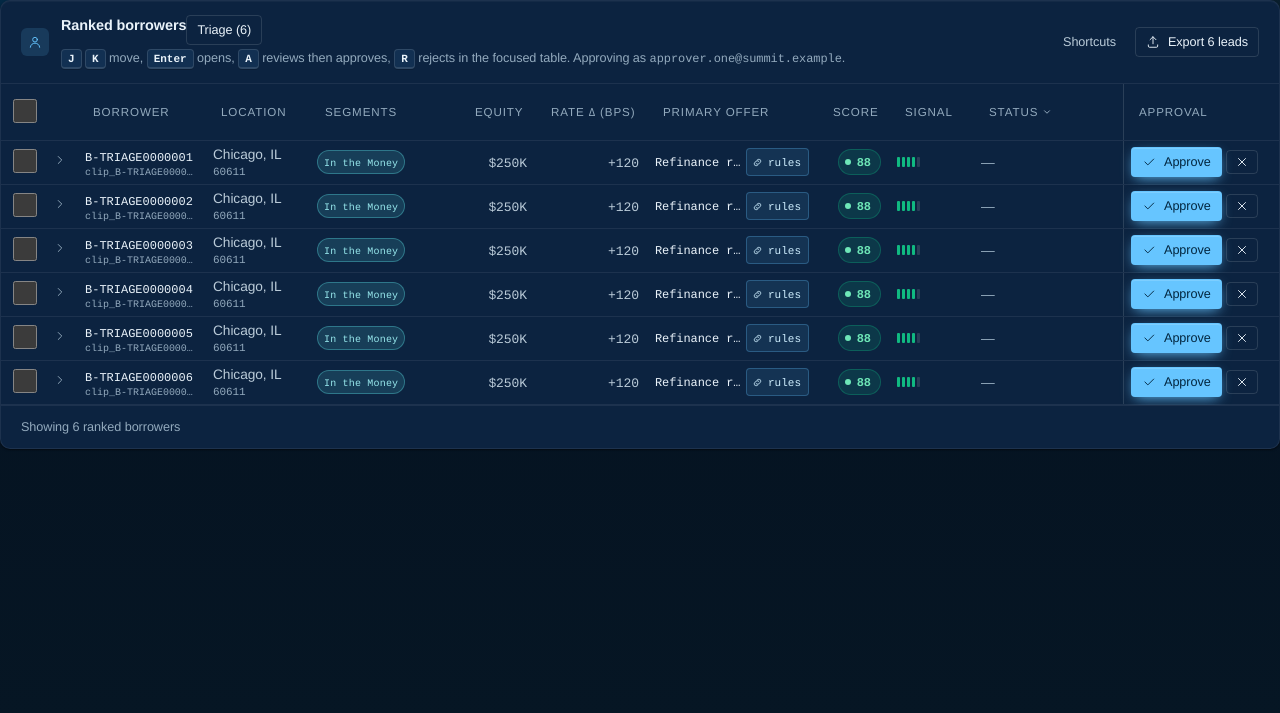
Test: Triage deck › enters with ?mode=triage (a new entry), hides the table, focuses card 1 and drafts nothing
Click the button with test id "lead-triage-enter". click: click(224, 30)
box: [186,15,262,45]
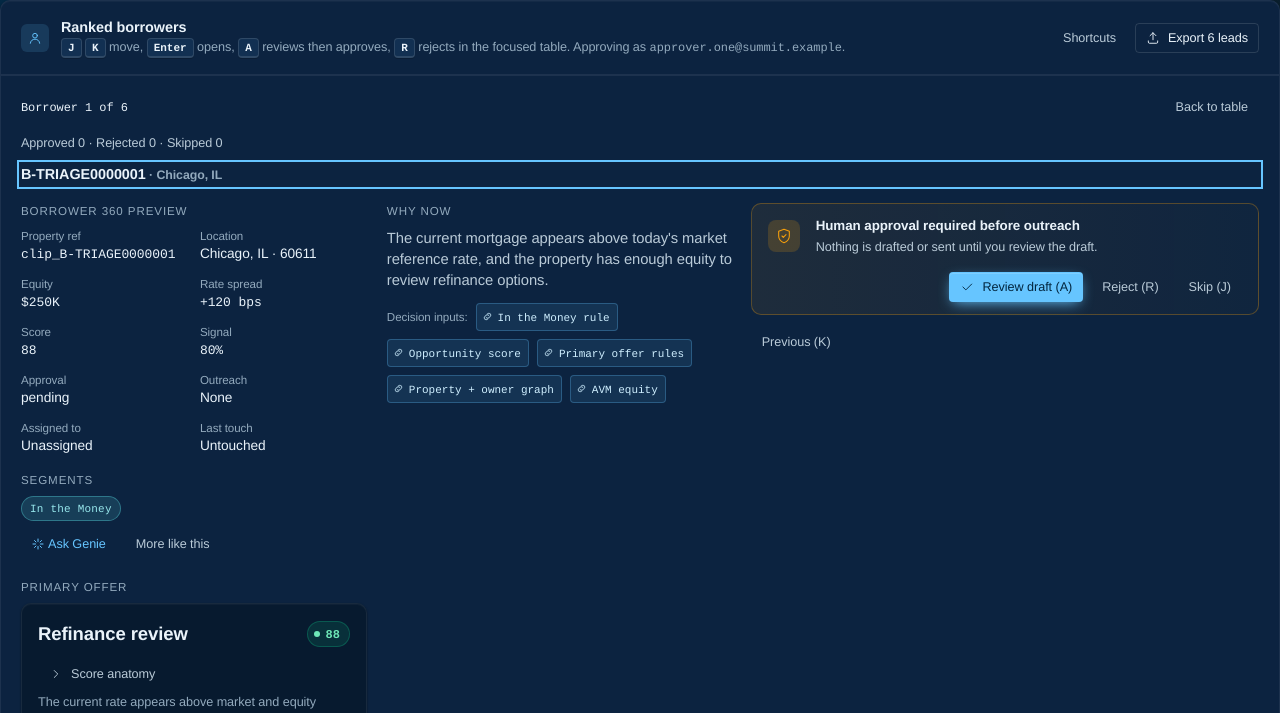
Now the text with test id "triage-position" reads "Borrower 1 of 6", box [21,99,128,115]
Now the button with test id "lead-triage-enter" is gone
Press j in the heading "B-TRIAGE0000001 · Chicago, IL", box [21,165,222,183]
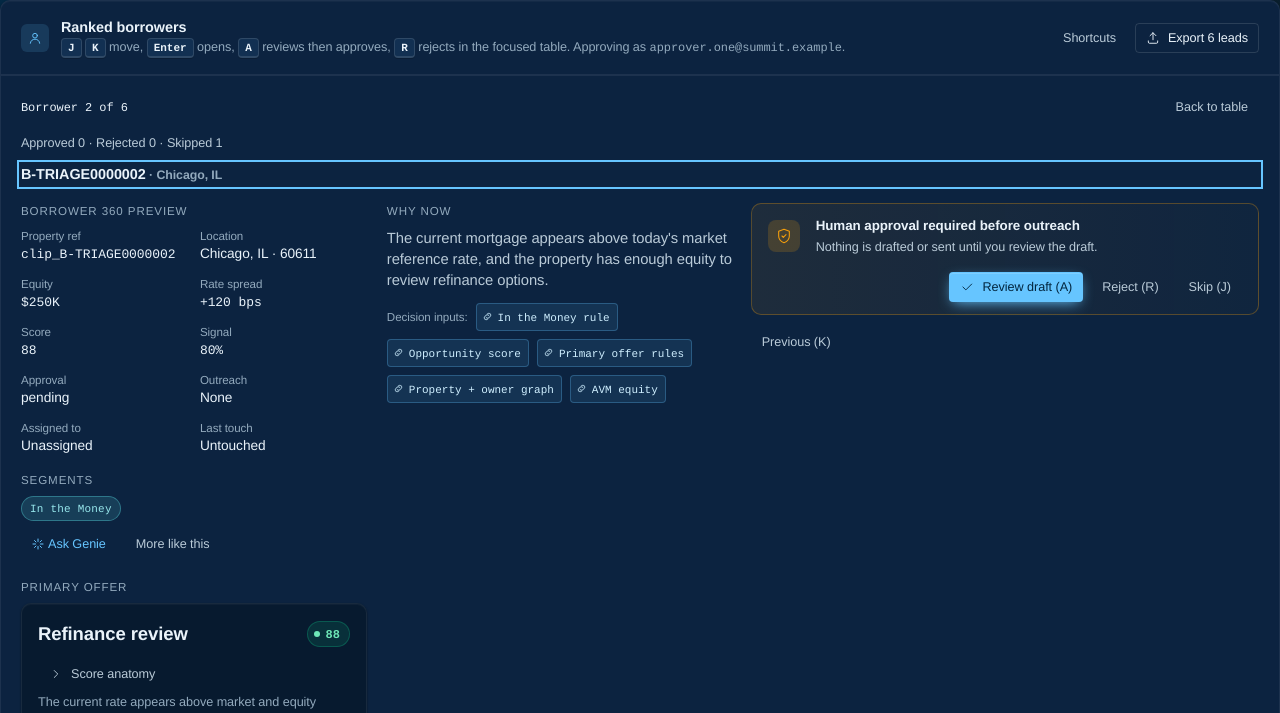
Press ArrowRight in the heading "B-TRIAGE0000002 · Chicago, IL", box [21,165,222,183]
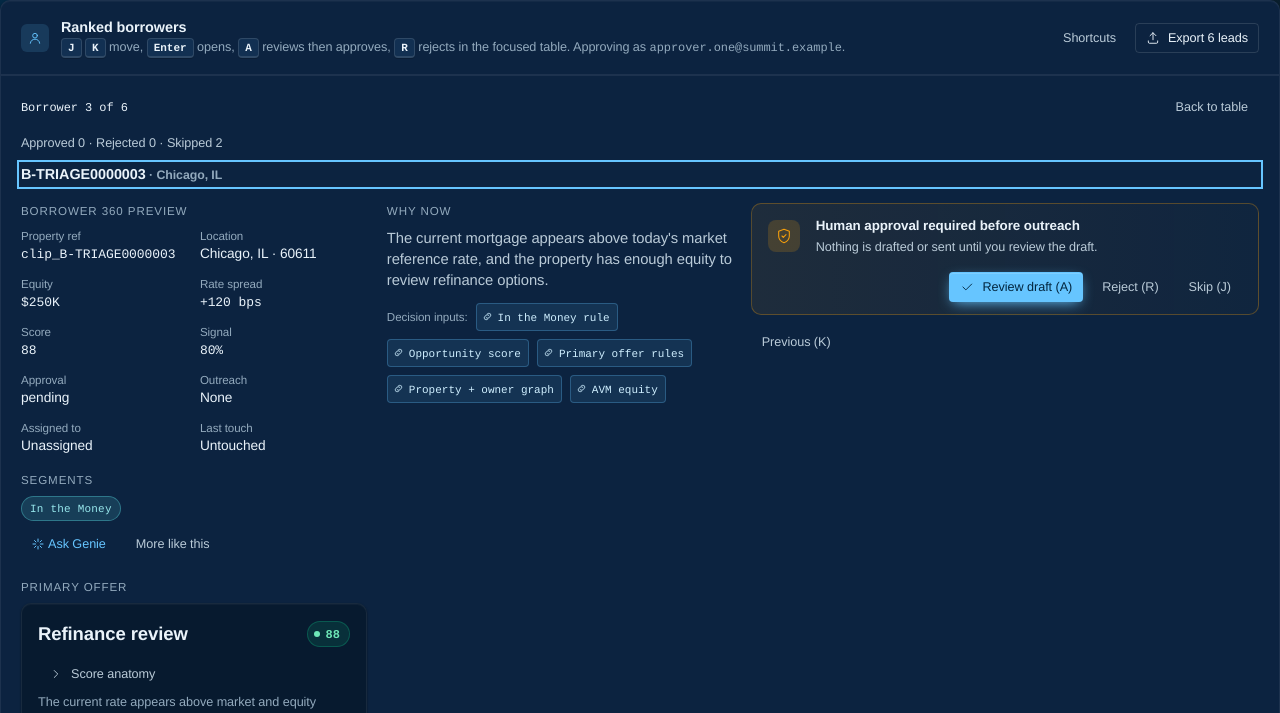
Press j in the heading "B-TRIAGE0000003 · Chicago, IL", box [21,165,222,183]
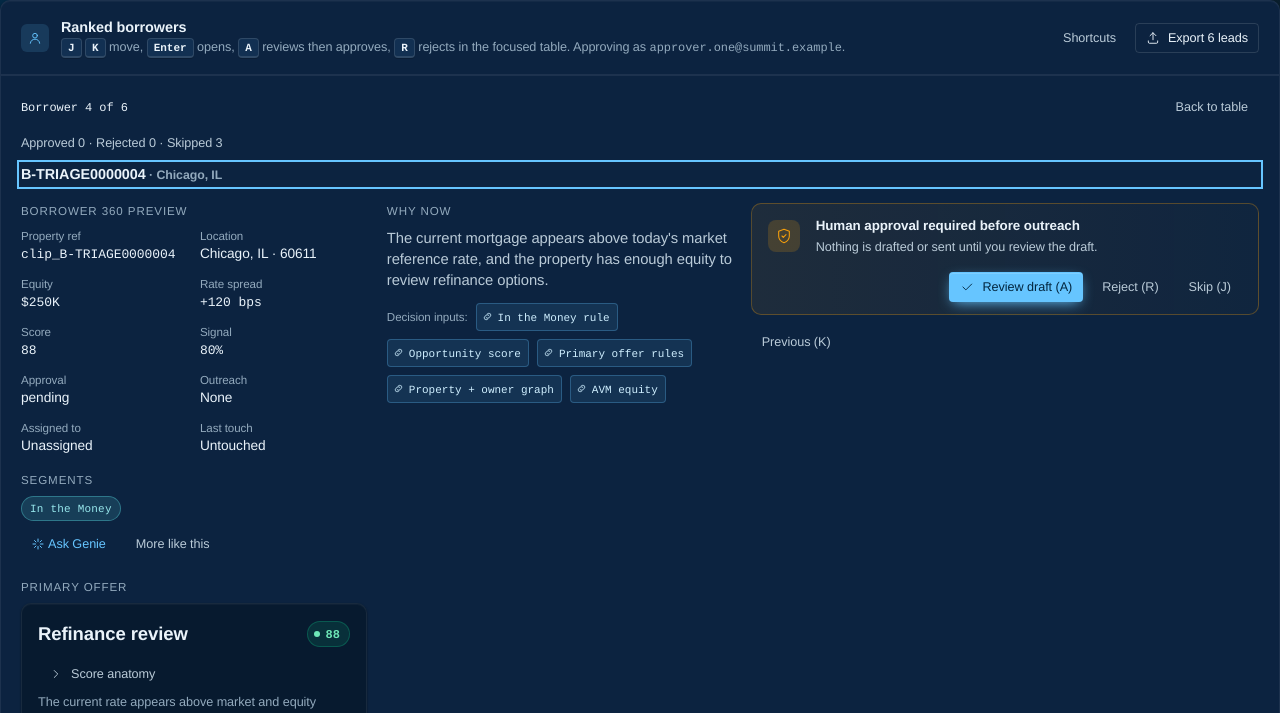
Now the text with test id "triage-position" reads "Borrower 4 of 6", box [21,99,128,115]
Press k in the heading "B-TRIAGE0000004 · Chicago, IL", box [21,165,222,183]
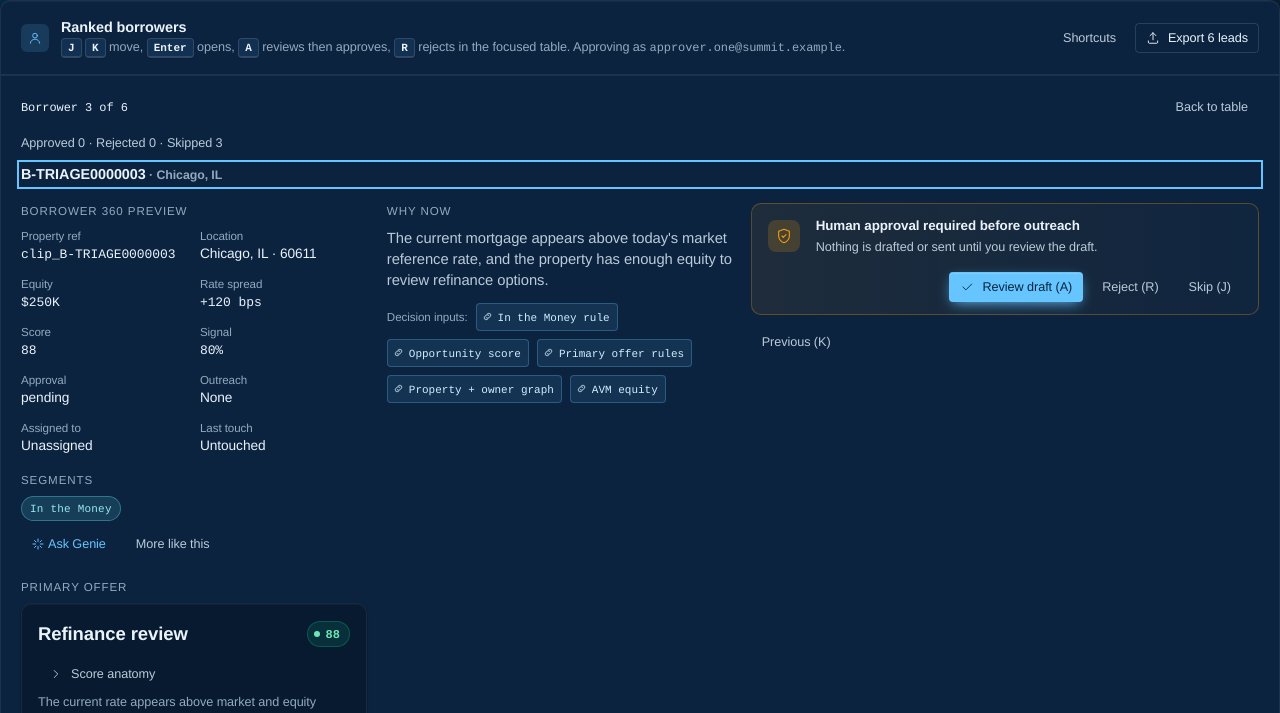
Now the text with test id "triage-position" reads "Borrower 3 of 6", box [21,99,128,115]
